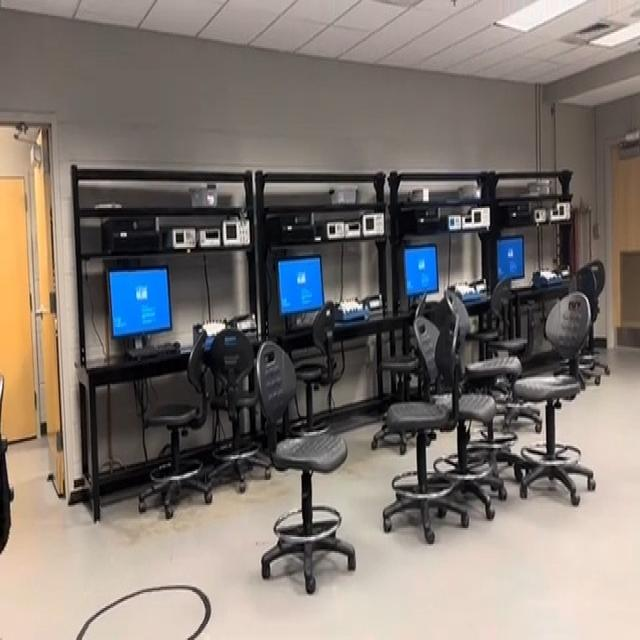drone: (229, 200, 254, 230)
